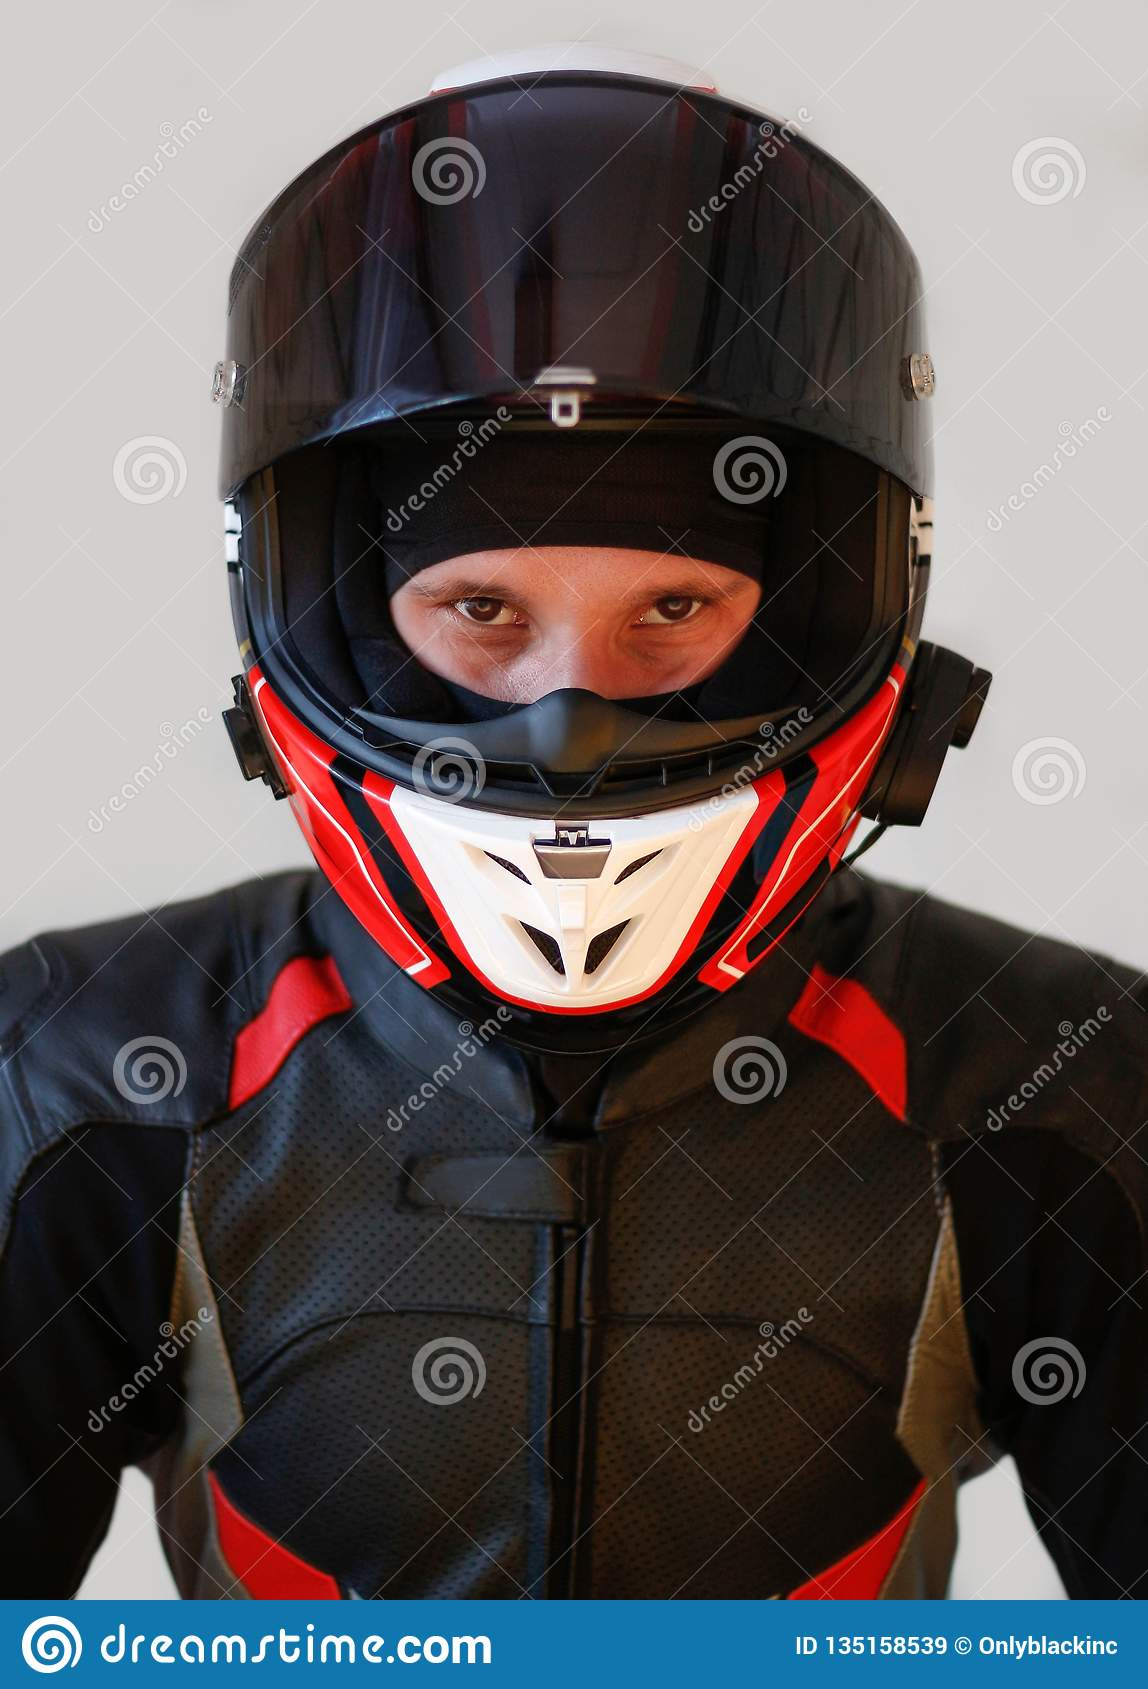helmet: (224, 67, 981, 1001)
